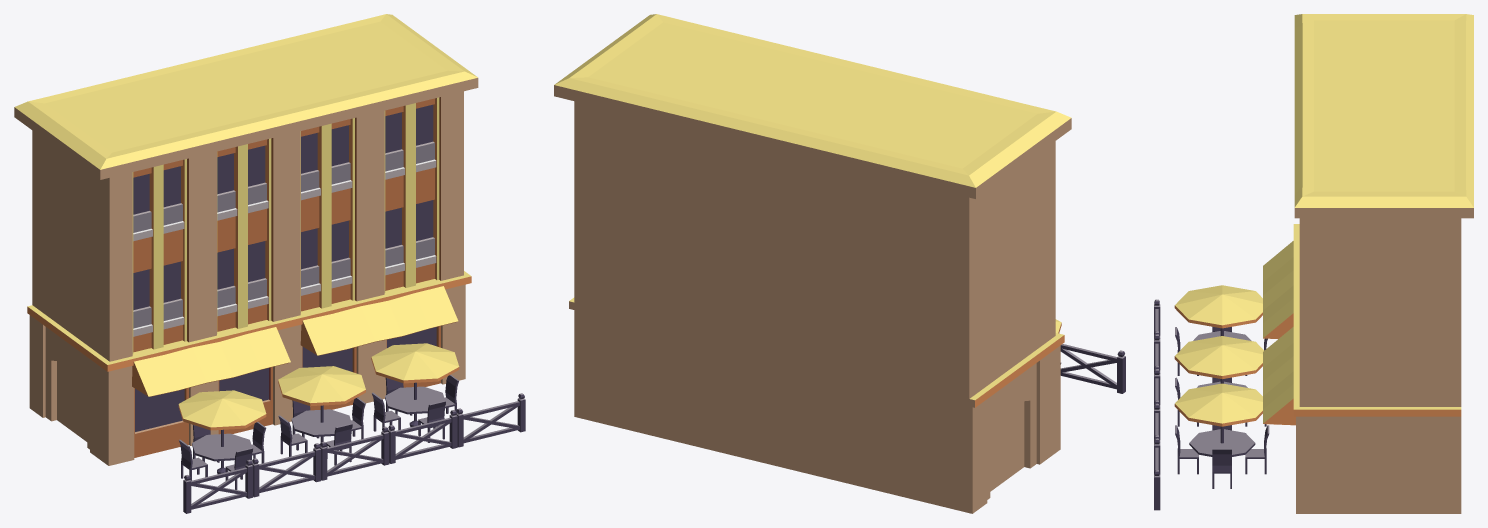
The model's file is YELLOW_cafe.fbx.
3 views of the same model, side by side, from view 1: azimuth 30°, elevation 25°; view 2: azimuth 150°, elevation 25°; view 3: azimuth 270°, elevation 25° (orthographic). The views are drawn at different scales.
Parts seen in each view (by area): view 1: pCube1, pCylinder1 (×3), pasted__pCube18, pasted__pCube19, pCylinder4 (×3); view 2: pCube1; view 3: pCube1, pCylinder1 (×3), pasted__pCube19, pasted__pCube18, pCylinder4, pCube2.
Boxes of the visible parts, x1,y1,x2,y2 form: pCube1: [14, 14, 478, 465]; pCylinder1 (×3): [178, 343, 459, 430]; pasted__pCube18: [132, 327, 290, 396]; pasted__pCube19: [300, 286, 458, 355]; pCylinder4 (×3): [192, 386, 445, 461]; pCube1: [554, 14, 1071, 513]; pCube1: [1293, 14, 1473, 513]; pCylinder1 (×3): [1174, 285, 1264, 426]; pasted__pCube19: [1263, 327, 1295, 425]; pasted__pCube18: [1263, 241, 1293, 338]; pCylinder4: [1189, 429, 1255, 456]; pCube2: [1212, 448, 1231, 471].
Size of the model in its own units: 14.79 by 11.41 by 10.38.
